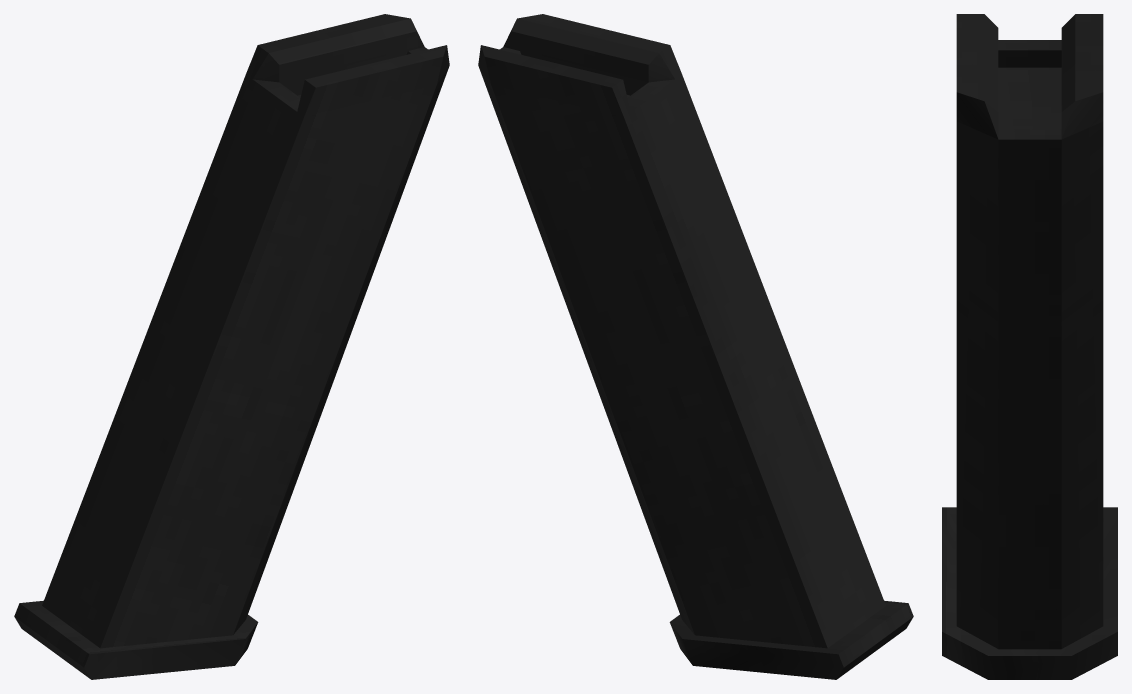
Rendered from pistol_mp_1_mag_empty.glb.
3 views of the same model, side by side, from view 1: azimuth 30°, elevation 25°; view 2: azimuth 150°, elevation 25°; view 3: azimuth 270°, elevation 25° (orthographic). The views are drawn at different scales.
Parts seen in each view (by area): view 1: pistol_mp_1_mag_empty; view 2: pistol_mp_1_mag_empty; view 3: pistol_mp_1_mag_empty.
Part boxes in pixels (x1=…): pistol_mp_1_mag_empty: x1=14, y1=14, x2=449, y2=679; pistol_mp_1_mag_empty: x1=478, y1=14, x2=913, y2=679; pistol_mp_1_mag_empty: x1=942, y1=14, x2=1117, y2=679.
Size of the model in its own units: 0.1153 by 0.1581 by 0.036.
Materials: 1 (1 with a texture image).
